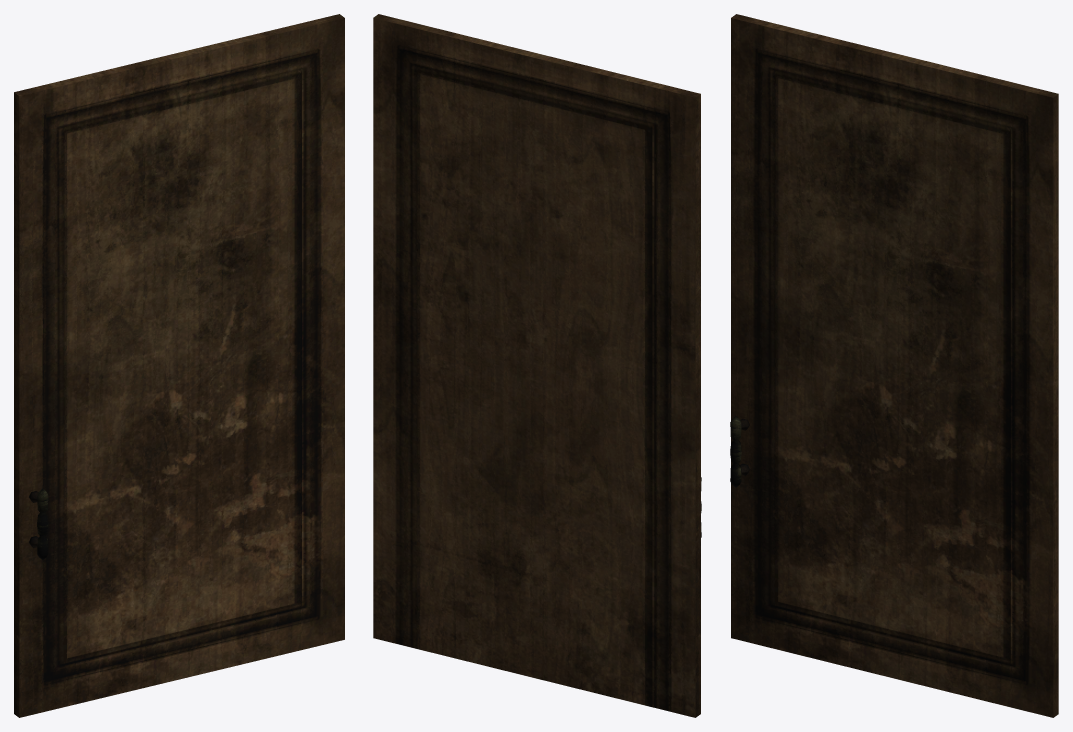
Rendered from closetRightDoor01_b.FBX.
The picture shows the model from 3 angles, left to right: view 1: azimuth 30°, elevation 25°; view 2: azimuth 150°, elevation 25°; view 3: azimuth 330°, elevation 25°; orthographic projection.
Parts seen in each view (by area): view 1: SM_ClosetRightDoor01; view 2: SM_ClosetRightDoor01; view 3: SM_ClosetRightDoor01.
Boxes of the visible parts, box(x1,y1,x2,y2) form: SM_ClosetRightDoor01: box(14, 14, 344, 717); SM_ClosetRightDoor01: box(373, 14, 701, 717); SM_ClosetRightDoor01: box(730, 14, 1058, 717).
Bounding box in the file's own units: 62.6 × 115 × 5.86.
1 material, 1 textured.
